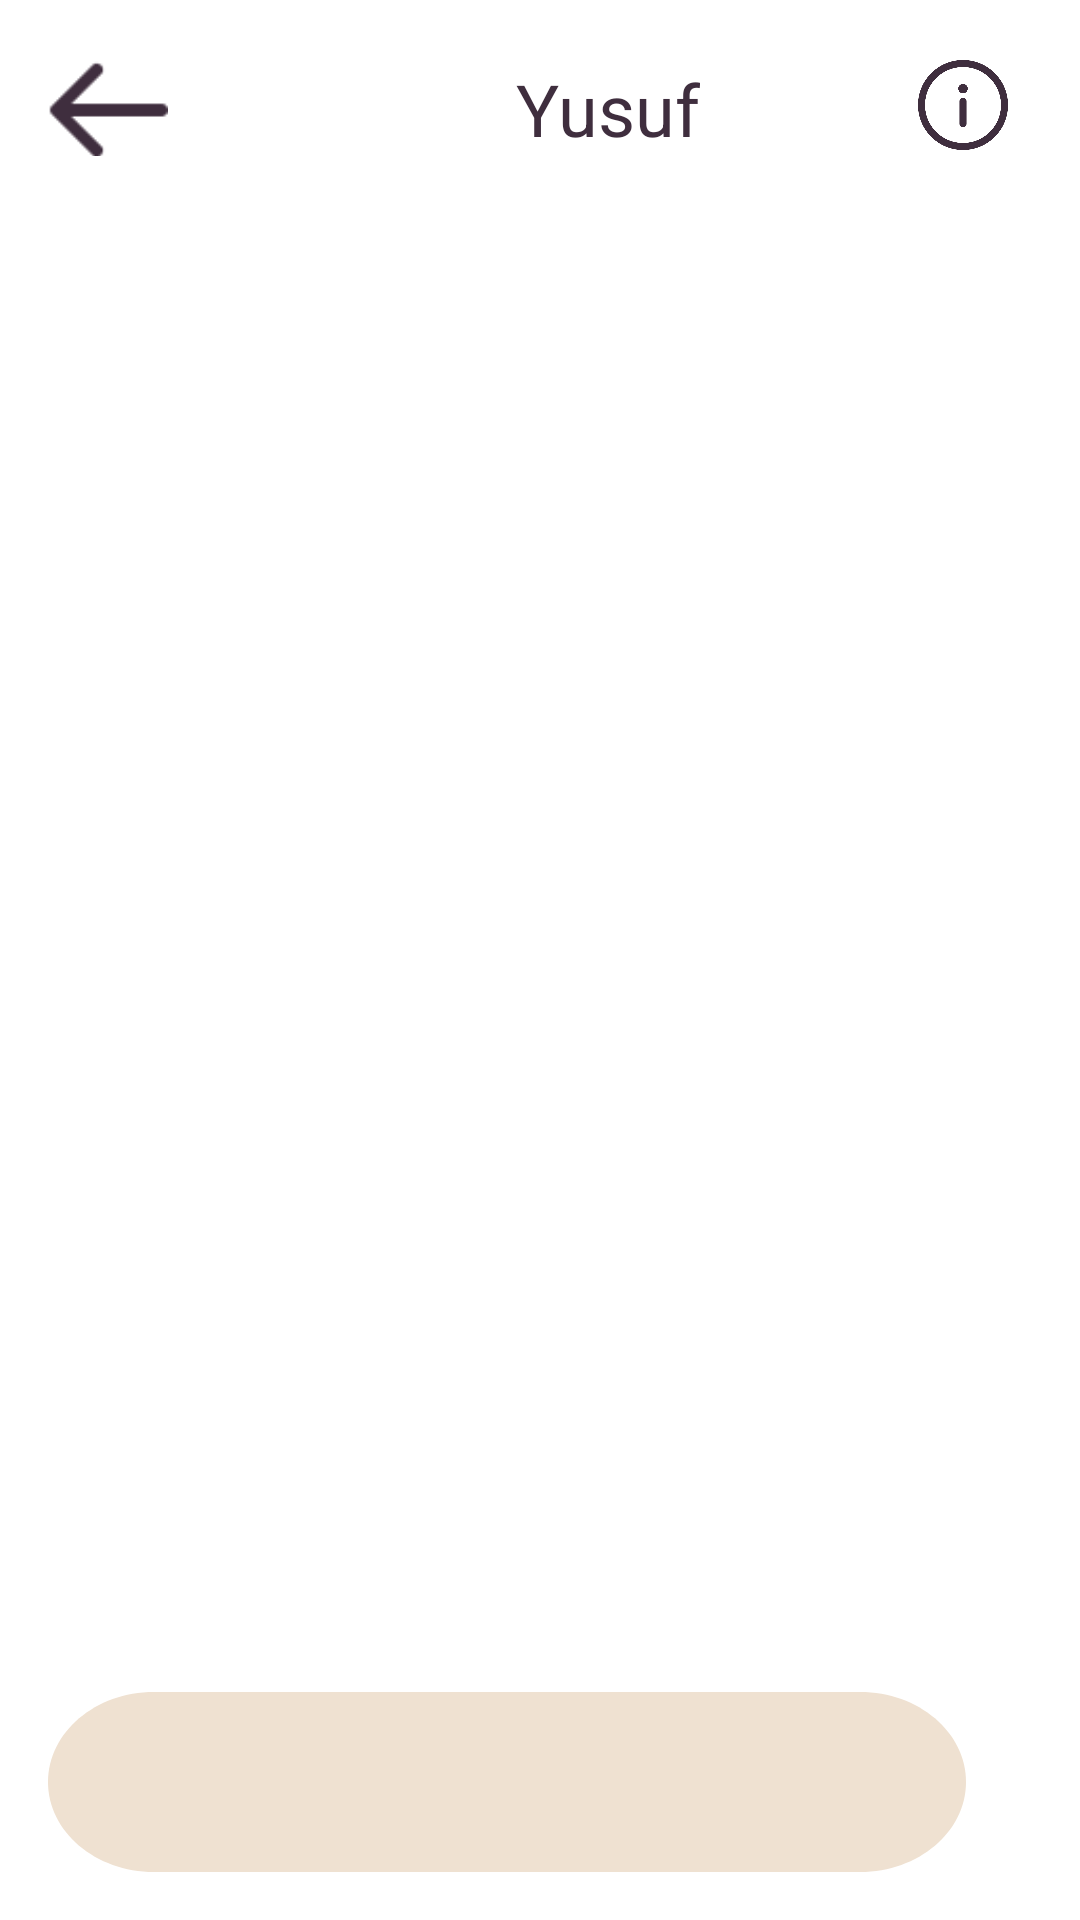

Where icons sit on this 1080×1920 app screen, as (x1, y1, x2, y2):
back: (49, 63, 168, 156)
info: (918, 60, 1008, 150)
